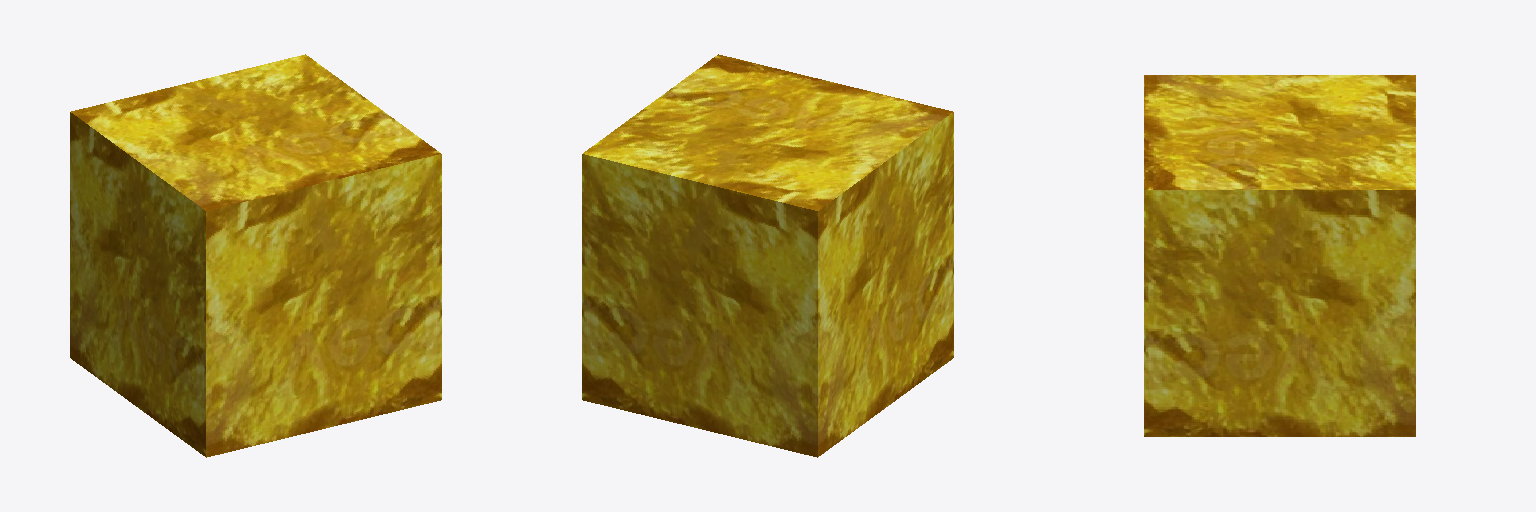
3 renders of one model, left to right at view 1: azimuth 30°, elevation 25°; view 2: azimuth 150°, elevation 25°; view 3: azimuth 270°, elevation 25°, orthographic.
Visible parts, largest first — view 1: Gold; view 2: Gold; view 3: Gold.
Part boxes in pixels (x1,y1,x2,y2): Gold: (70, 54, 441, 457); Gold: (582, 54, 953, 457); Gold: (1144, 75, 1415, 436).
Bounding box in the file's own units: 2 × 2 × 2.
1 materials, 1 textured.